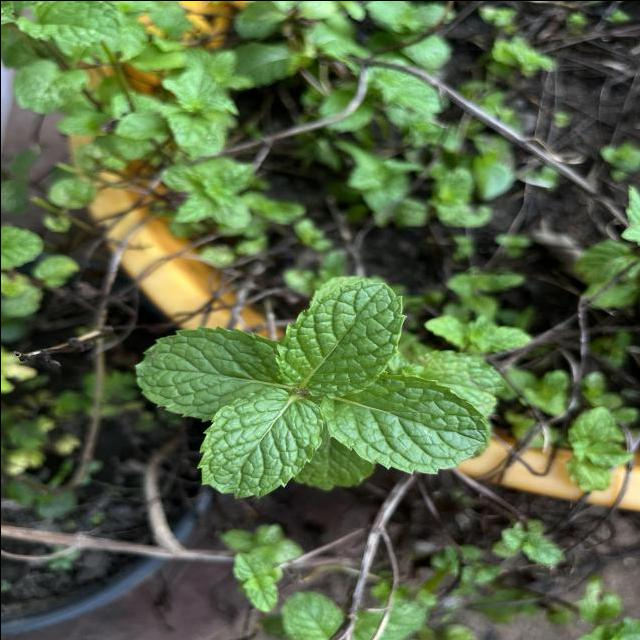Mentha spicata: (318, 369, 489, 476), (272, 277, 408, 400), (193, 386, 324, 500), (132, 324, 276, 422)
